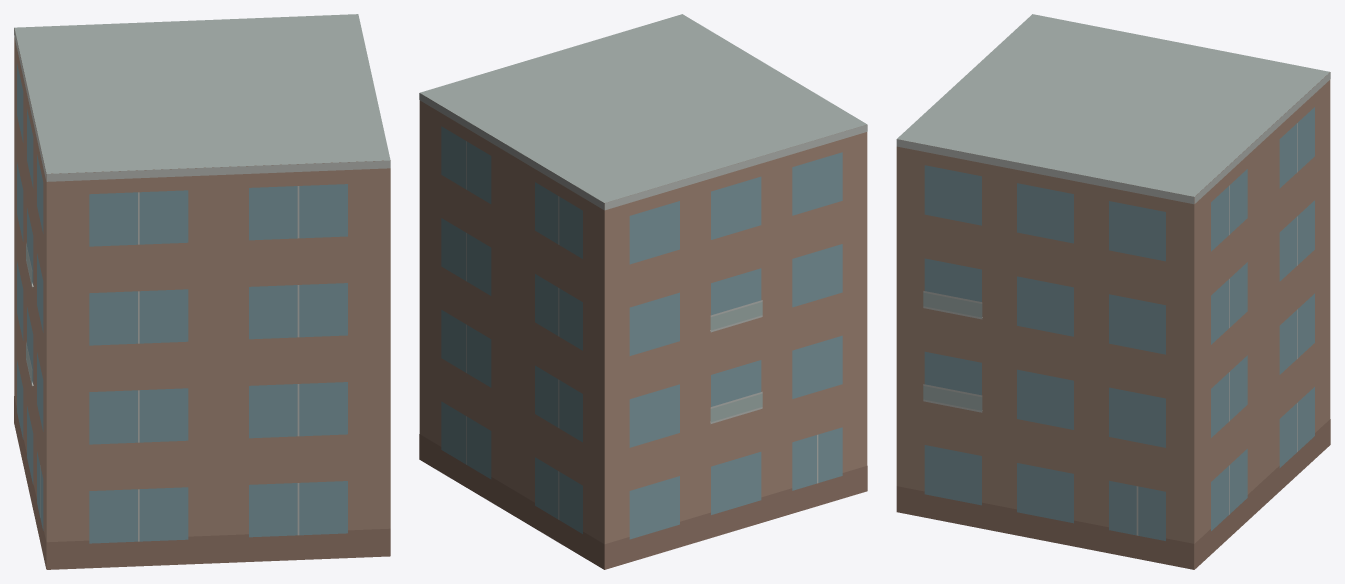
The model's file is residential-65db849a-0fcc-4ef5-93d7-6c452cdb48da.glb.
3 renders of one model, left to right at view 1: azimuth 30°, elevation 25°; view 2: azimuth 150°, elevation 25°; view 3: azimuth 270°, elevation 25°, orthographic. The views are drawn at different scales.
Visible parts, largest first — view 1: residential-65db849a-0fcc-4ef5-93d7-6c452cdb48da.tmp; view 2: residential-65db849a-0fcc-4ef5-93d7-6c452cdb48da.tmp; view 3: residential-65db849a-0fcc-4ef5-93d7-6c452cdb48da.tmp.
Part boxes in pixels (box(x1,y1,x2,y2)): residential-65db849a-0fcc-4ef5-93d7-6c452cdb48da.tmp: box(14, 14, 390, 569); residential-65db849a-0fcc-4ef5-93d7-6c452cdb48da.tmp: box(419, 14, 867, 569); residential-65db849a-0fcc-4ef5-93d7-6c452cdb48da.tmp: box(896, 14, 1330, 569).
Bounding box in the file's own units: 12.84 × 12.2 × 12.87.
